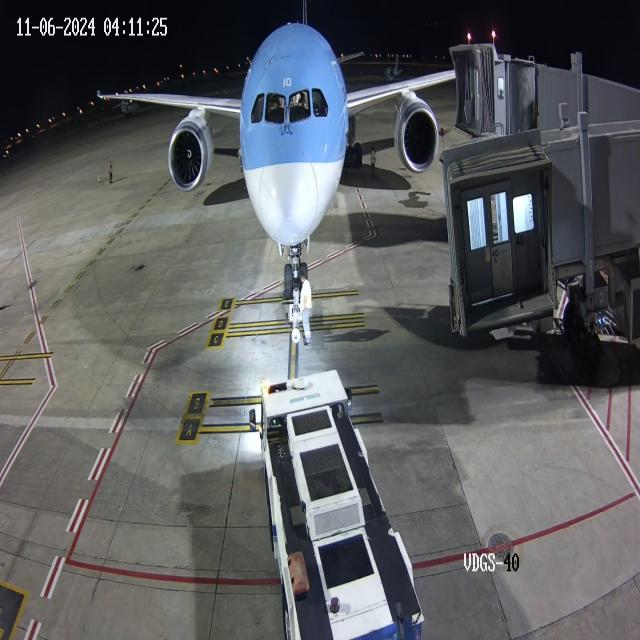bridge: (488, 28, 540, 140)
plane: (96, 20, 440, 297)
window: (249, 88, 330, 129)
